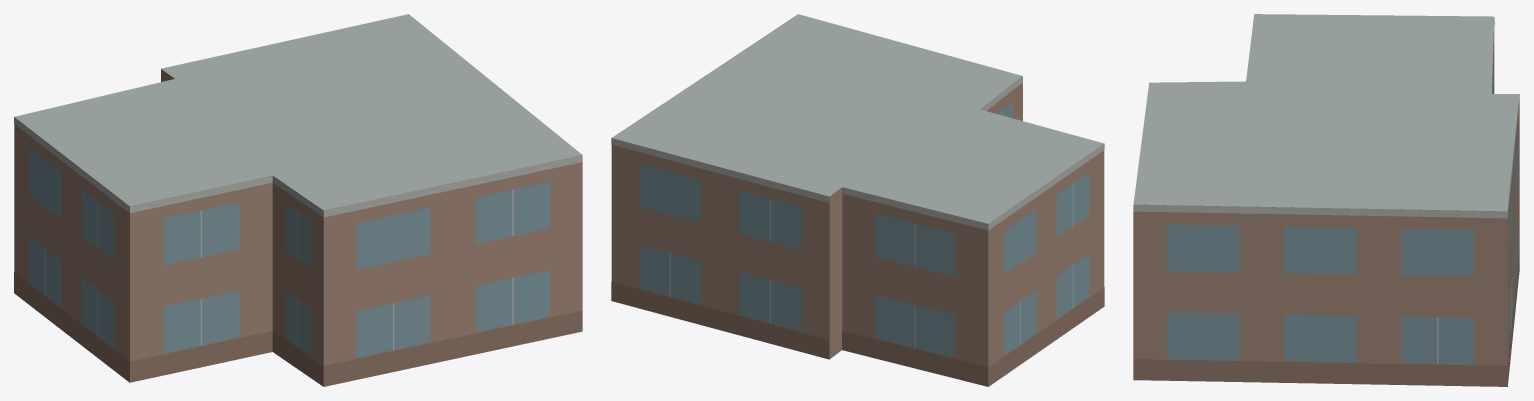
File: survey-upis-32877320.glb
3 renders of one model, left to right at view 1: azimuth 30°, elevation 25°; view 2: azimuth 150°, elevation 25°; view 3: azimuth 270°, elevation 25°, orthographic. The views are drawn at different scales.
Visible parts, largest first — view 1: survey-upis-32877320.tmp; view 2: survey-upis-32877320.tmp; view 3: survey-upis-32877320.tmp.
Part boxes in pixels (box(x1,y1,x2,y2)): survey-upis-32877320.tmp: box(14, 14, 582, 386); survey-upis-32877320.tmp: box(611, 14, 1104, 386); survey-upis-32877320.tmp: box(1133, 14, 1519, 386).
Bounding box in the file's own units: 14.72 × 6.1 × 12.17.
